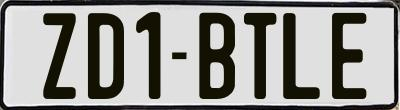1: (134, 10, 162, 100)
B: (198, 10, 239, 101)
D: (86, 13, 123, 104)
E: (330, 10, 364, 97)
L: (283, 10, 324, 102)
T: (242, 13, 274, 102)
Z: (42, 13, 75, 102)
